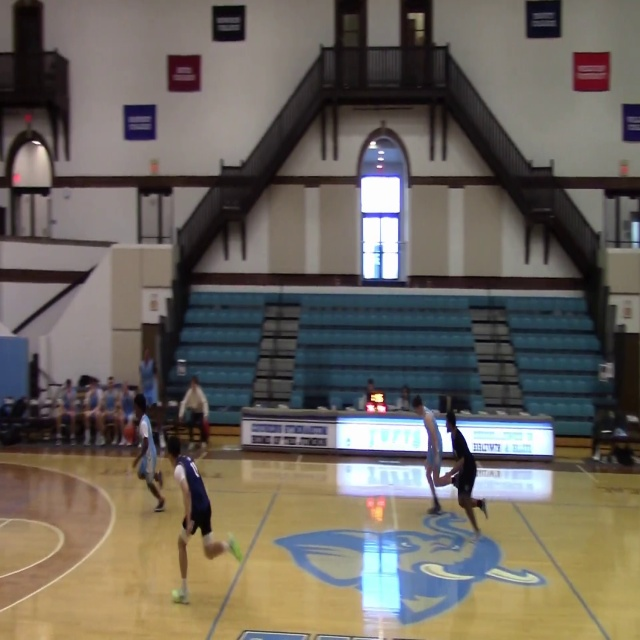Basketball: (123, 423, 136, 443)
